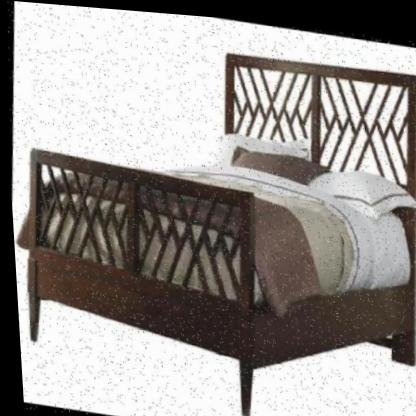Bed: (0, 9, 416, 416)
